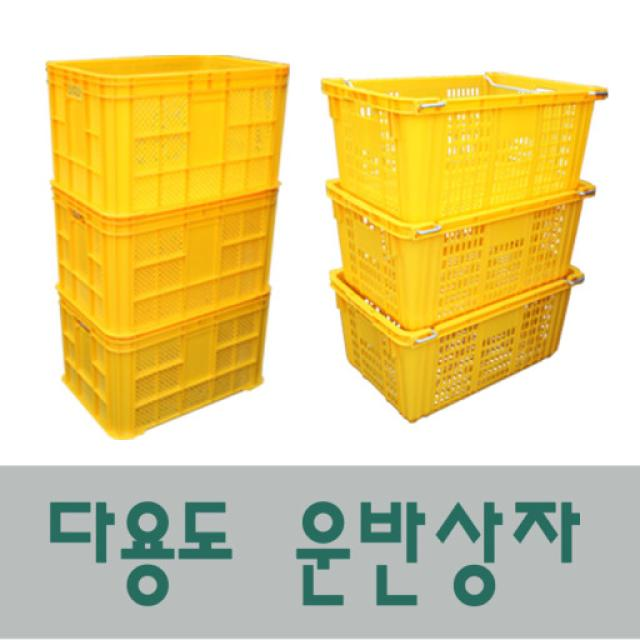basket: (322, 70, 612, 225), (331, 259, 591, 425), (327, 180, 596, 330), (46, 54, 292, 216), (52, 186, 278, 338), (58, 291, 268, 441)
